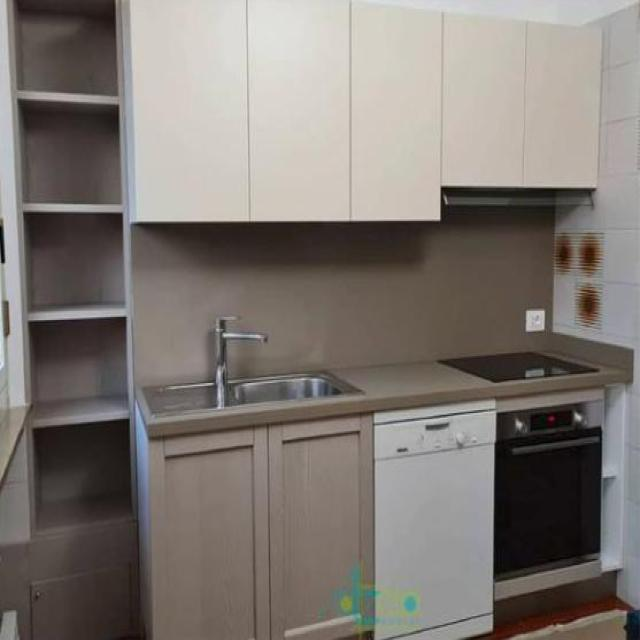dishwasher: (372, 398, 491, 639)
